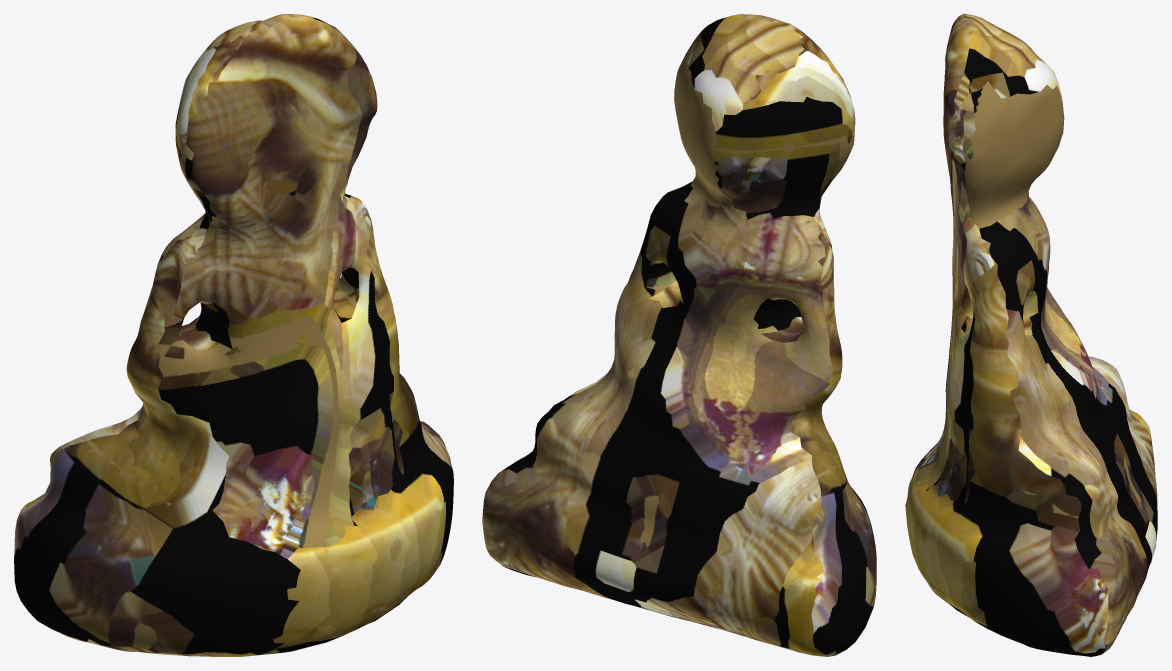
The model's file is fasting-buddha.obj.
3 renders of one model, left to right at view 1: azimuth 30°, elevation 25°; view 2: azimuth 150°, elevation 25°; view 3: azimuth 270°, elevation 25°, orthographic. The views are drawn at different scales.
Size of the model in its own units: 65.57 by 95 by 39.82.
1 material, 1 textured.
